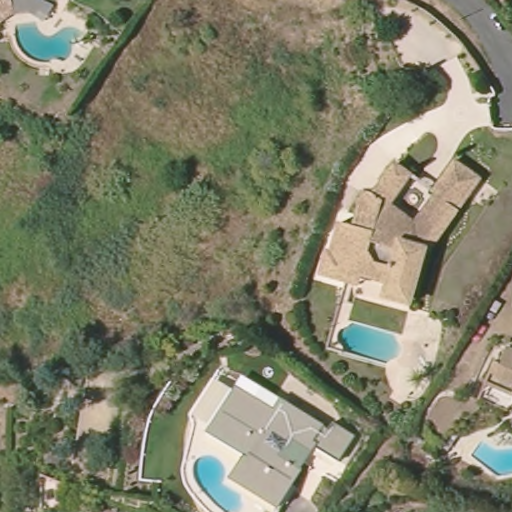pool: (192, 451, 242, 510), (337, 320, 401, 366), (14, 22, 83, 64), (470, 437, 512, 479)
